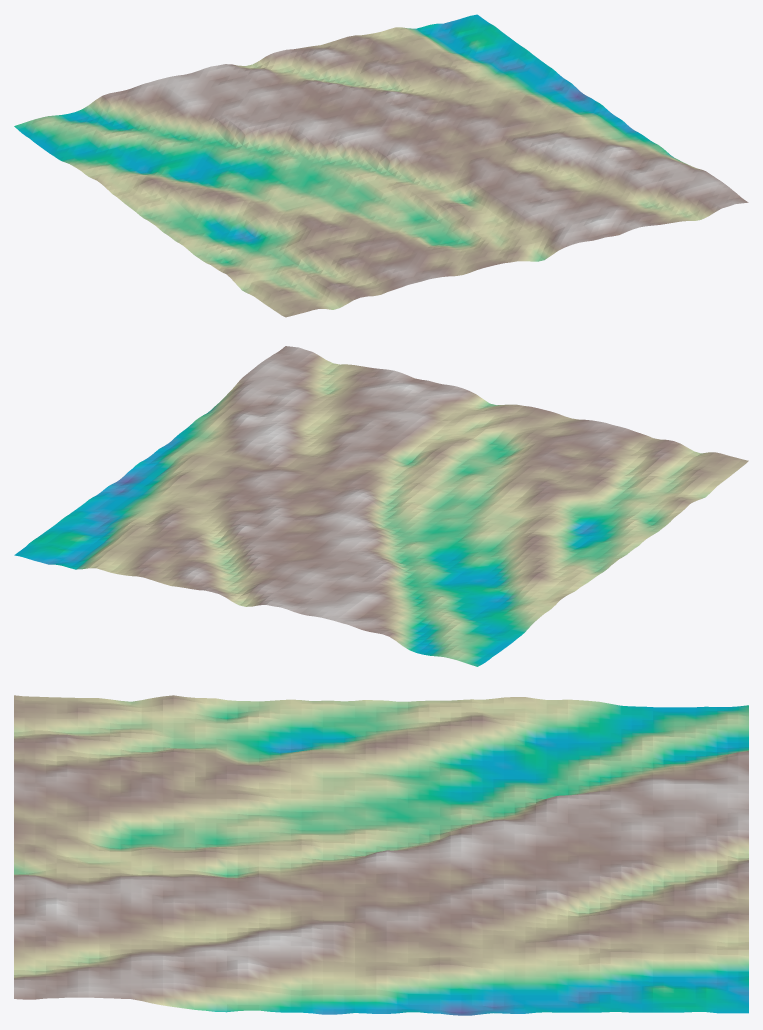
File: 000371_terrain_only.glb
3 renders of one model, top to bottom at view 1: azimuth 30°, elevation 25°; view 2: azimuth 150°, elevation 25°; view 3: azimuth 270°, elevation 25°, orthographic. The views are drawn at different scales.
Parts seen in each view (by area): view 1: terrain; view 2: terrain; view 3: terrain.
Part boxes in pixels (x1=…): terrain: x1=14, y1=14, x2=748, y2=317; terrain: x1=14, y1=346, x2=748, y2=666; terrain: x1=14, y1=695, x2=748, y2=1015.
Size of the model in its own units: 0.0183 by 0.000645 by 0.0186.
